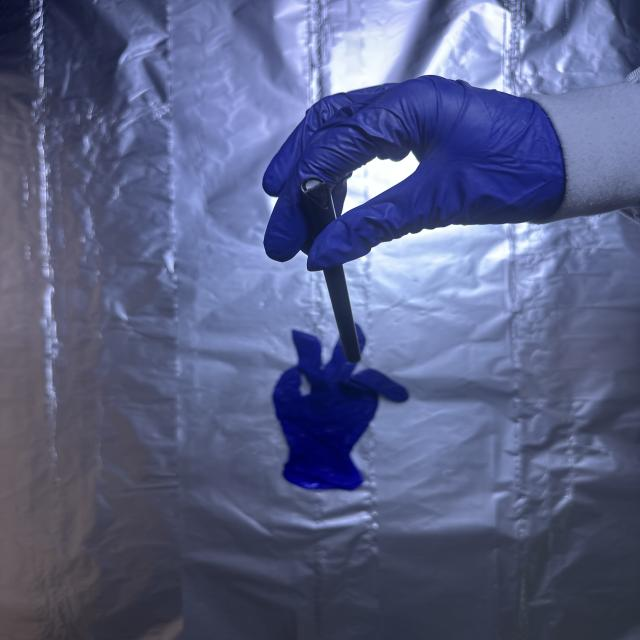gloves_contaminated: (263, 76, 565, 270)
